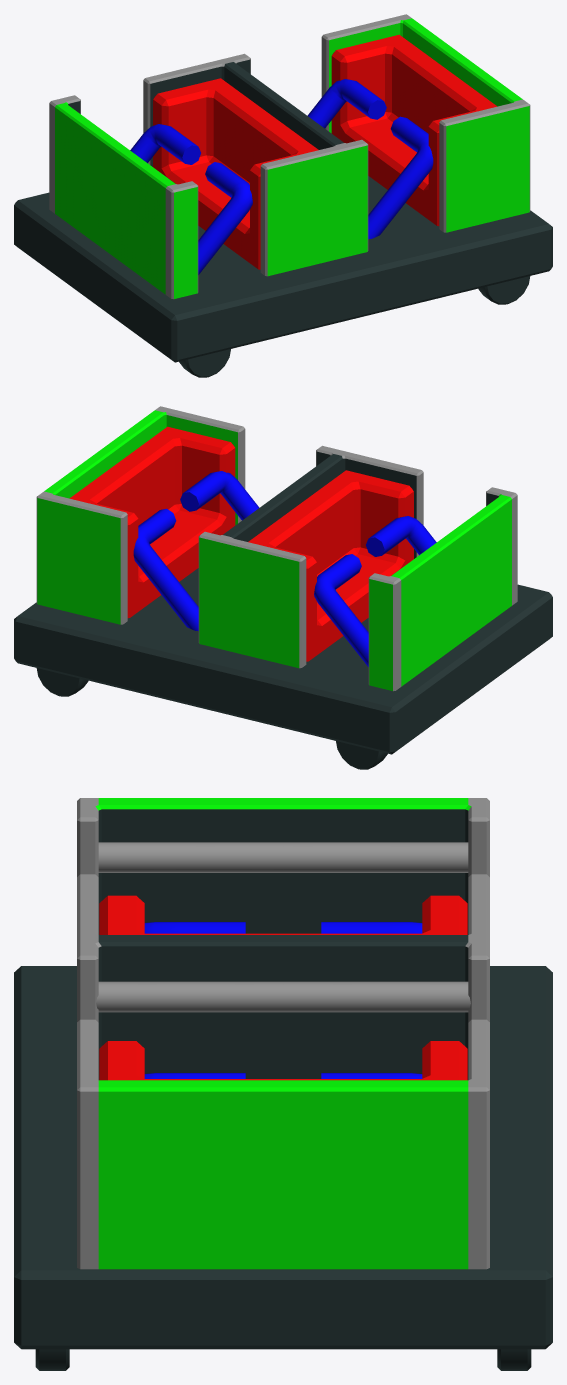
File: PTCT1.fbx
3 views of the same model, one above another, from view 1: azimuth 30°, elevation 25°; view 2: azimuth 150°, elevation 25°; view 3: azimuth 270°, elevation 25° (orthographic). The views are drawn at different scales.
Parts seen in each view (by area): view 1: base, front_wall, middle_wall, back_wall, back_seat, front_seat, lap_bar_back, lapbar_front, back_wheel, front_wheel; view 2: base, front_wall, middle_wall, back_wall, back_seat, front_seat, lap_bar_back, lapbar_front, back_wheel, front_wheel; view 3: base, back_wall, middle_wall, front_wall, back_handle_bar, front_handle_bar, back_seat, front_seat, lapbar_front, back_wheel, lap_bar_back.
Boxes of the visible parts, box(x1,y1,x2,y2) form: base: box(14, 176, 552, 362); front_wall: box(49, 95, 198, 299); middle_wall: box(143, 53, 368, 276); back_wall: box(321, 14, 530, 232); back_seat: box(331, 34, 497, 226); front_seat: box(153, 78, 318, 269); lap_bar_back: box(307, 79, 433, 239); lapbar_front: box(130, 124, 252, 274); back_wheel: box(478, 276, 530, 304); front_wheel: box(179, 349, 230, 377); base: box(14, 568, 552, 754); front_wall: box(368, 487, 517, 691); middle_wall: box(198, 445, 423, 668); back_wall: box(36, 406, 245, 624); back_seat: box(69, 426, 235, 618); front_seat: box(248, 470, 413, 661); lap_bar_back: box(133, 471, 259, 631); lapbar_front: box(314, 516, 436, 666); back_wheel: box(36, 668, 88, 696); front_wheel: box(336, 741, 387, 769); base: box(14, 966, 552, 1349); back_wall: box(77, 1019, 489, 1269); middle_wall: box(77, 874, 489, 1079); front_wall: box(77, 798, 489, 934); back_handle_bar: box(96, 981, 470, 1012); front_handle_bar: box(98, 842, 468, 872); back_seat: box(99, 1041, 467, 1080); front_seat: box(99, 895, 467, 934); lapbar_front: box(144, 922, 422, 933); back_wheel: box(35, 1349, 531, 1370); lap_bar_back: box(144, 1073, 422, 1078).
Size of the model in its own units: 30 by 13.81 by 22.
